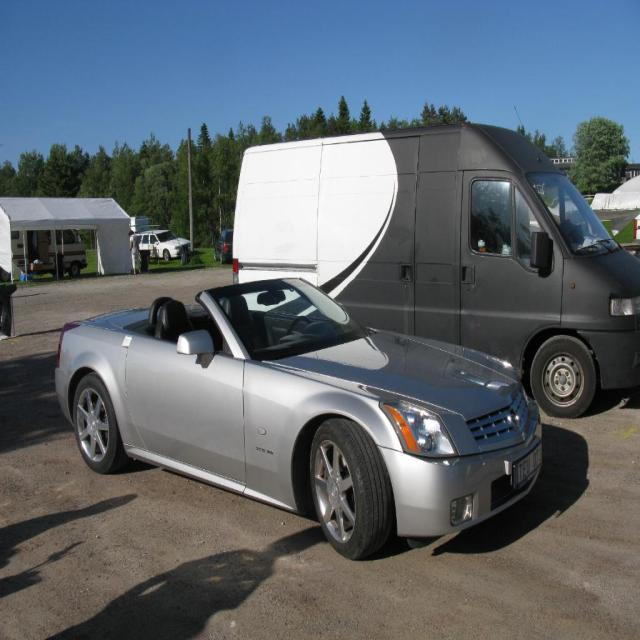car: (54, 274, 541, 559)
